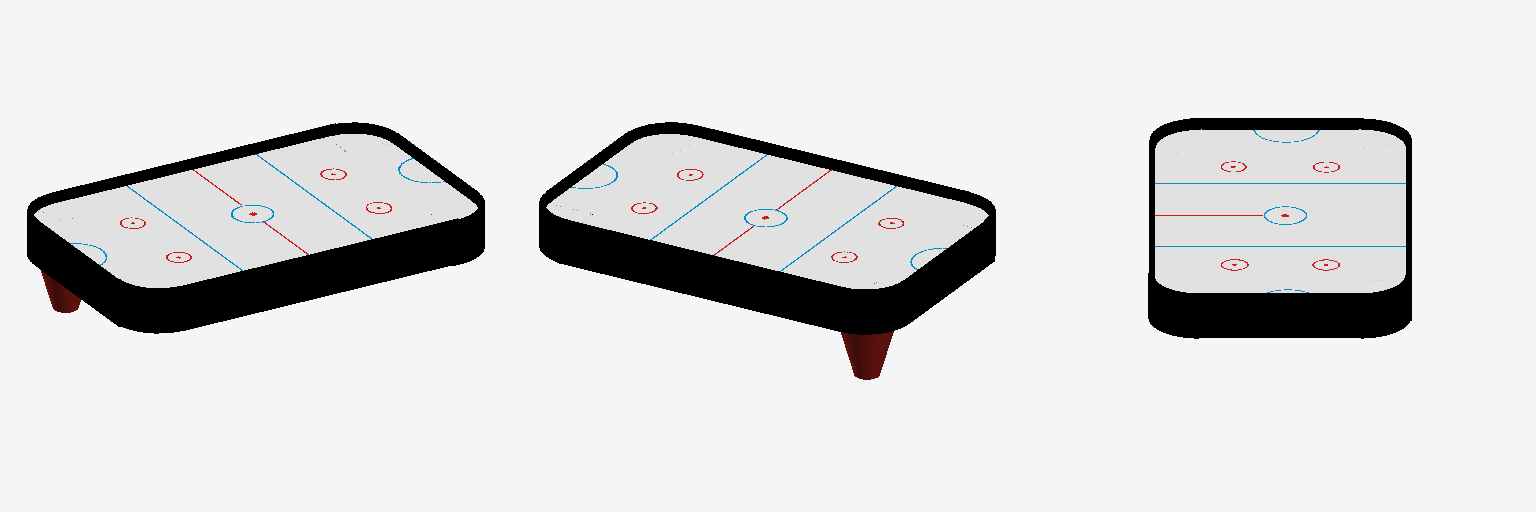
The picture shows the model from 3 angles: view 1: azimuth 30°, elevation 25°; view 2: azimuth 150°, elevation 25°; view 3: azimuth 270°, elevation 25°; orthographic projection.
Visible parts, largest first — view 1: Cylinder, Cylinder.004, Cylinder.001_Cylinder.006; view 2: Cylinder, Cylinder.004, Cylinder.001_Cylinder.006; view 3: Cylinder, Cylinder.004.
Part boxes in pixels (bbox=[...]): Cylinder: bbox=[34, 134, 477, 287]; Cylinder.004: bbox=[27, 122, 484, 333]; Cylinder.001_Cylinder.006: bbox=[41, 270, 80, 312]; Cylinder: bbox=[546, 134, 988, 288]; Cylinder.004: bbox=[539, 122, 995, 334]; Cylinder.001_Cylinder.006: bbox=[841, 331, 893, 379]; Cylinder: bbox=[1155, 129, 1405, 292]; Cylinder.004: bbox=[1148, 118, 1411, 338].
Size of the model in its own units: 6.65 by 1.73 by 4.18.
9 materials, 2 textured.